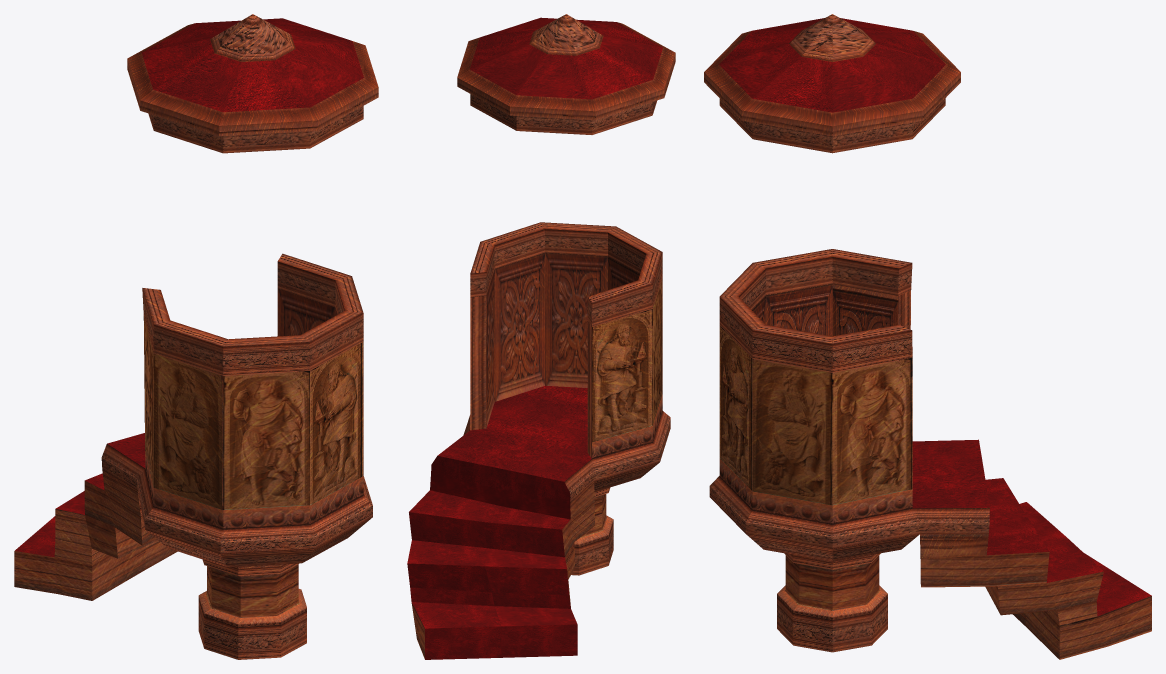
File: Cupola.fbx
3 views of the same model, side by side, from view 1: azimuth 30°, elevation 25°; view 2: azimuth 150°, elevation 25°; view 3: azimuth 270°, elevation 25° (orthographic). The views are drawn at different scales.
Visible parts, largest first — view 1: Podium; view 2: Podium; view 3: Podium.
Part boxes in pixels (x1,y1,x2,y2): Podium: [14, 14, 378, 659]; Podium: [407, 14, 675, 659]; Podium: [704, 14, 1151, 659].
Size of what is drawn, in the model's own units: 284 by 711 by 468.
